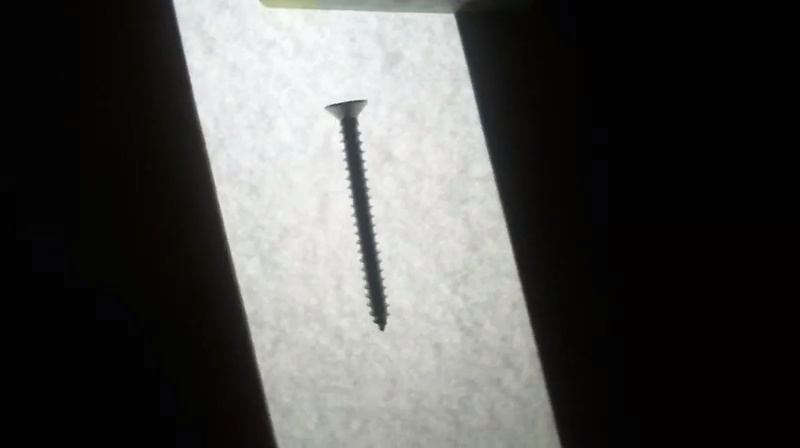S002: (321, 95, 390, 332)
